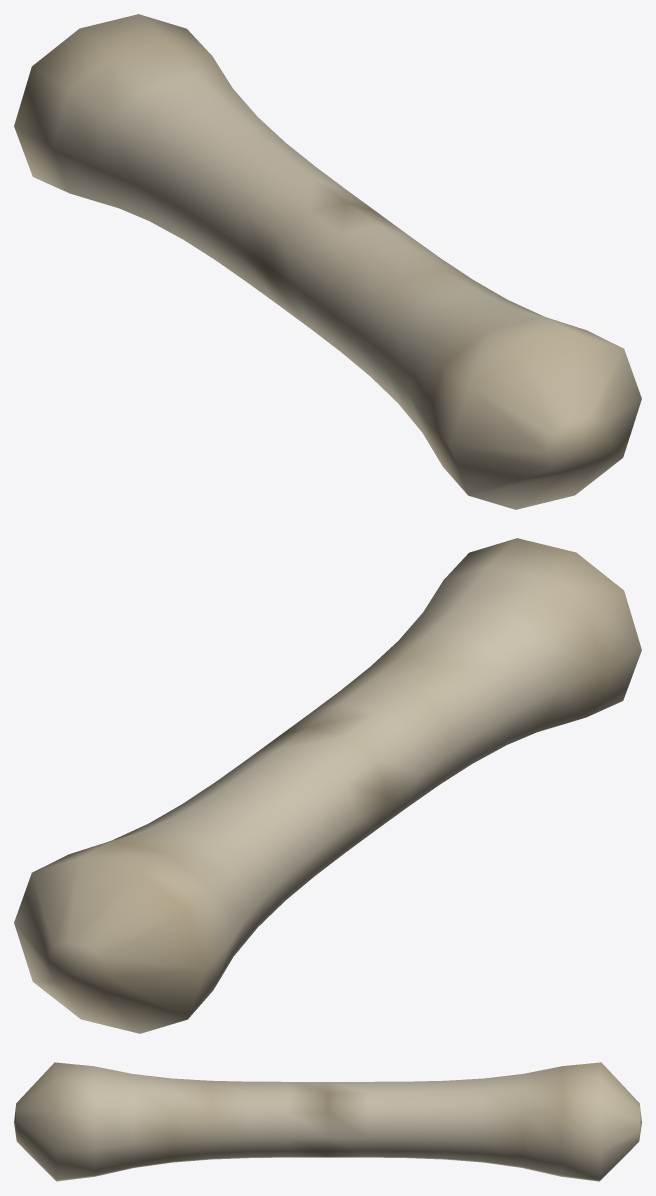
The model's file is bone-shaft-a.glb.
3 renders of one model, top to bottom at view 1: azimuth 30°, elevation 25°; view 2: azimuth 150°, elevation 25°; view 3: azimuth 270°, elevation 25°, orthographic. The views are drawn at different scales.
Visible parts, largest first — view 1: bone-shaft-a; view 2: bone-shaft-a; view 3: bone-shaft-a.
Boxes of the visible parts, box(x1,y1,x2,y2) form: bone-shaft-a: box(14, 14, 641, 509); bone-shaft-a: box(14, 538, 641, 1033); bone-shaft-a: box(14, 1062, 641, 1181).
Size of the model in its own units: 0.2219 by 0.1792 by 1.01.
